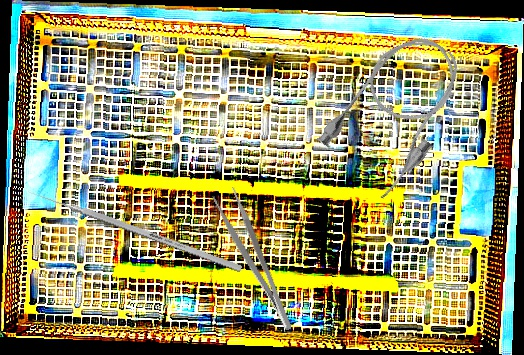Cannula: (310, 19, 484, 205)
Dressing Forceps: (211, 185, 296, 338)
Pusher: (26, 187, 243, 273)
